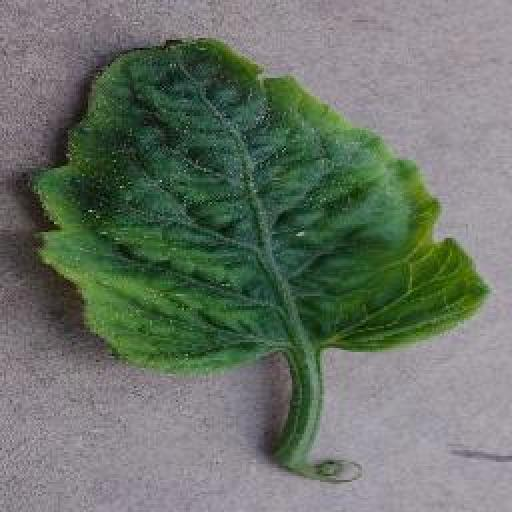disease_tomato: (39, 38, 497, 372)
